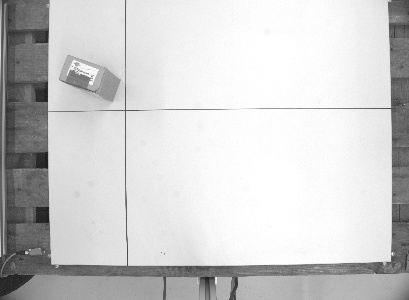b6: (55, 52, 123, 103)
